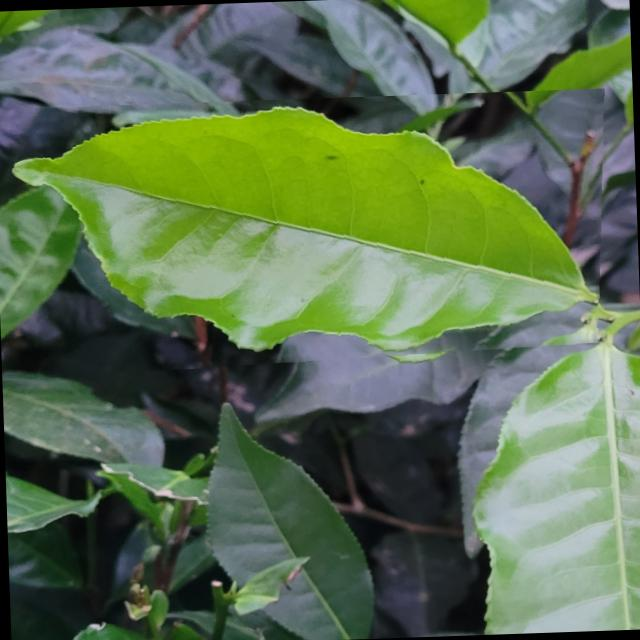Catagory A(1-2 days): (0, 88, 614, 381)
